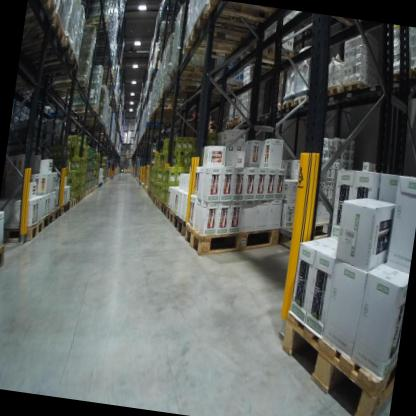forklift: (104, 147, 119, 180)
pallet: (270, 300, 401, 416), (181, 203, 287, 268), (274, 190, 360, 268), (191, 4, 265, 52), (17, 47, 84, 99), (18, 27, 78, 82), (180, 26, 260, 67), (21, 3, 69, 59), (237, 35, 299, 75), (1, 213, 44, 248), (196, 73, 245, 100), (169, 59, 212, 85), (58, 72, 92, 98), (65, 98, 101, 122), (162, 79, 197, 101), (28, 0, 60, 18), (154, 99, 186, 117), (340, 77, 371, 94), (86, 11, 111, 32), (291, 91, 313, 112), (38, 210, 55, 236), (171, 209, 187, 236), (319, 82, 341, 100), (45, 105, 64, 123), (0, 242, 8, 278), (48, 203, 62, 221), (265, 101, 281, 116), (164, 205, 175, 226), (278, 94, 292, 110), (159, 200, 170, 220), (238, 114, 252, 128), (59, 199, 69, 216), (65, 196, 75, 212), (155, 195, 163, 210), (224, 119, 232, 129), (151, 194, 157, 207), (232, 118, 239, 128)
